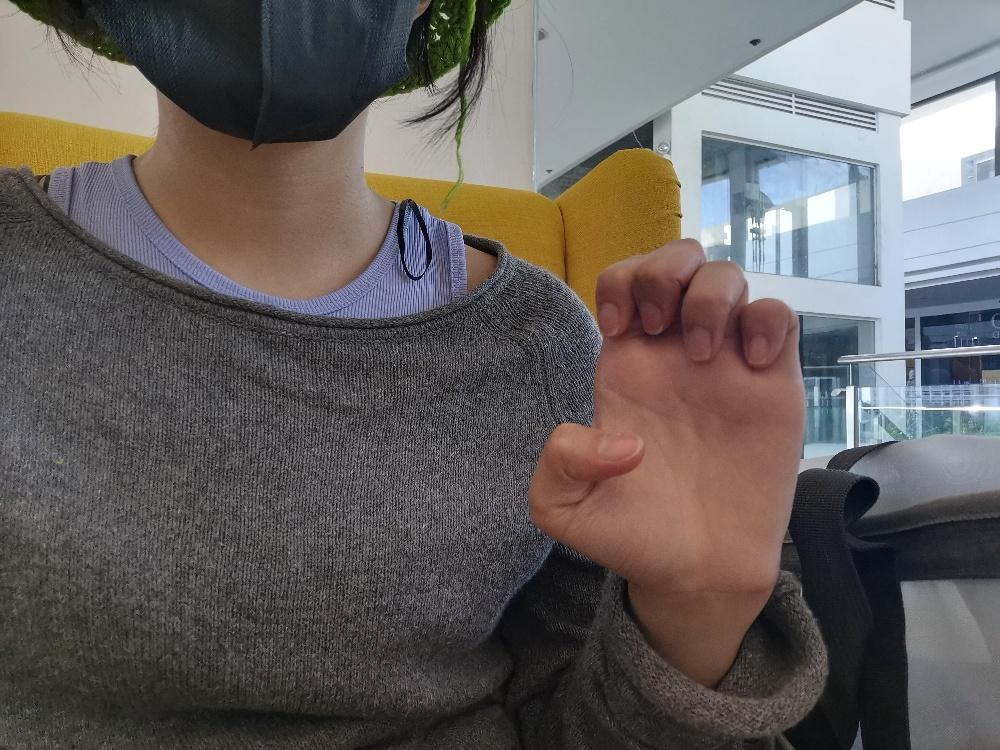e: (524, 234, 809, 590)
